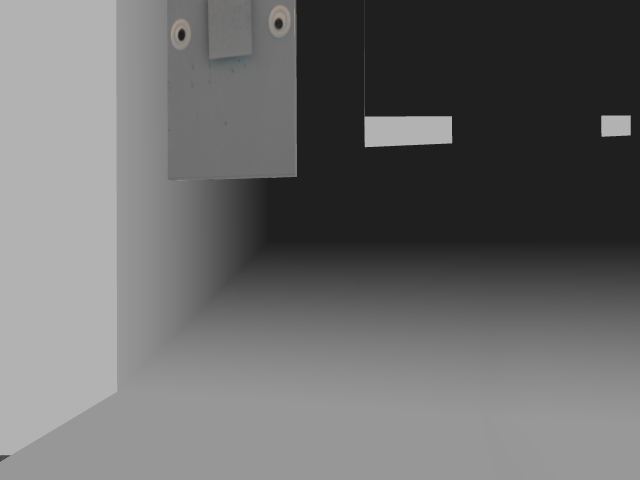facade: (169, 0, 291, 59)
